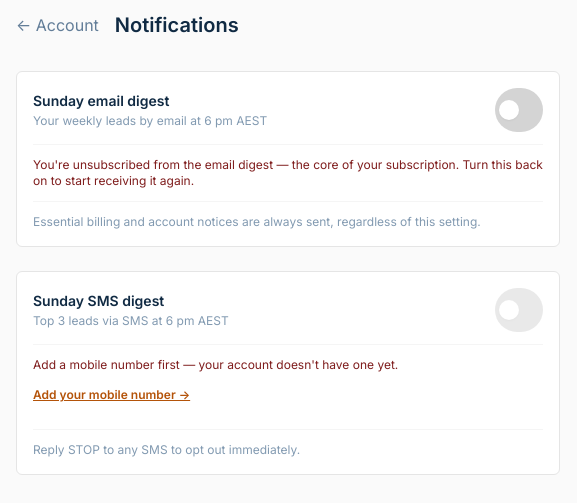
SMSOptInPage — email digest re-enable control (#105) › re-enables the email digest by POSTing to /api/account/email-opt-in
The width and height of the screenshot is (577, 503).
Click the switch named "email digest" at (519, 110), box [495,88,543,132]
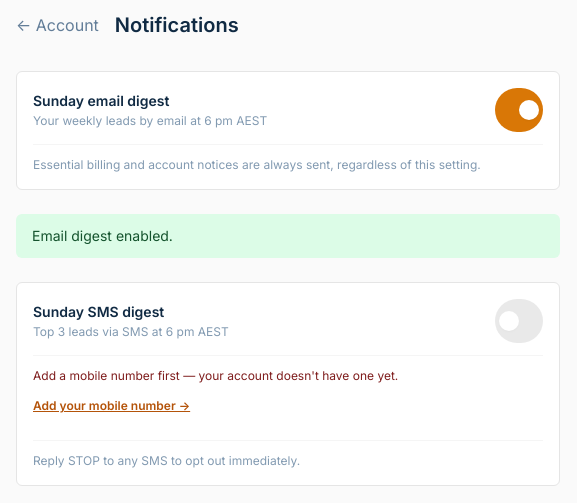
Now the message reads "Email digest enabled.", box [32,227,173,244]
